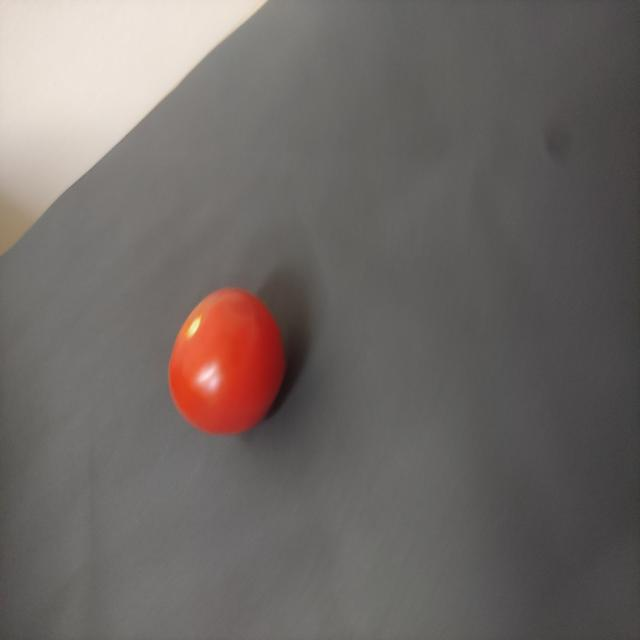kirmizi: (145, 276, 310, 448)
